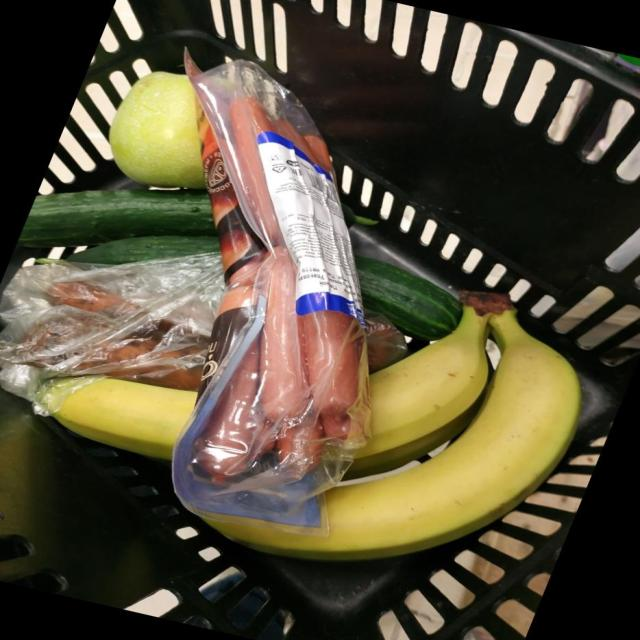Apple: (108, 71, 205, 189)
Banana: (207, 310, 581, 561), (346, 291, 513, 478), (52, 378, 197, 460)
Carrot: (46, 281, 125, 312), (143, 365, 202, 391), (104, 340, 156, 363)
Cucumber: (16, 189, 216, 247), (355, 257, 462, 340), (67, 235, 219, 265)
Sausages: (172, 60, 370, 534)
